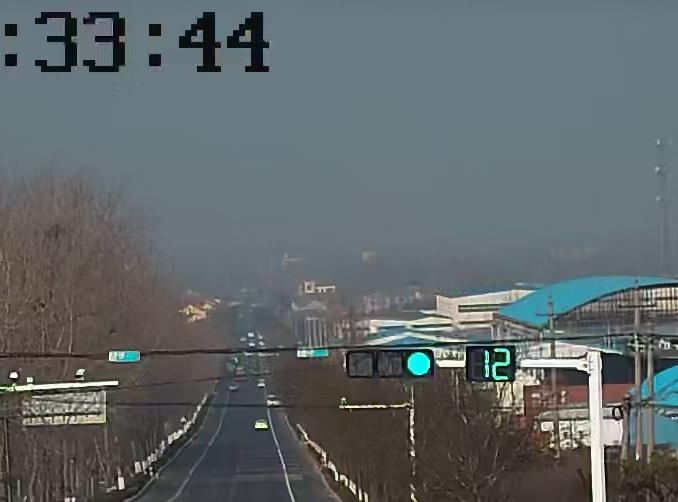green: (405, 349, 436, 376)
greentime: (477, 349, 513, 382)
